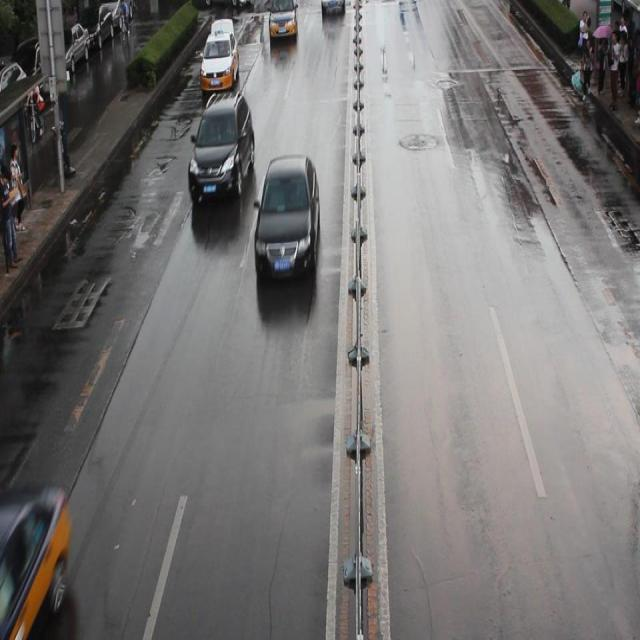car: (1, 481, 71, 640), (252, 152, 320, 284), (186, 92, 254, 203), (200, 31, 240, 89), (268, 1, 298, 40), (320, 1, 345, 18)
